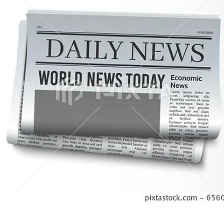news_paper: (4, 18, 208, 166), (19, 12, 224, 140)
